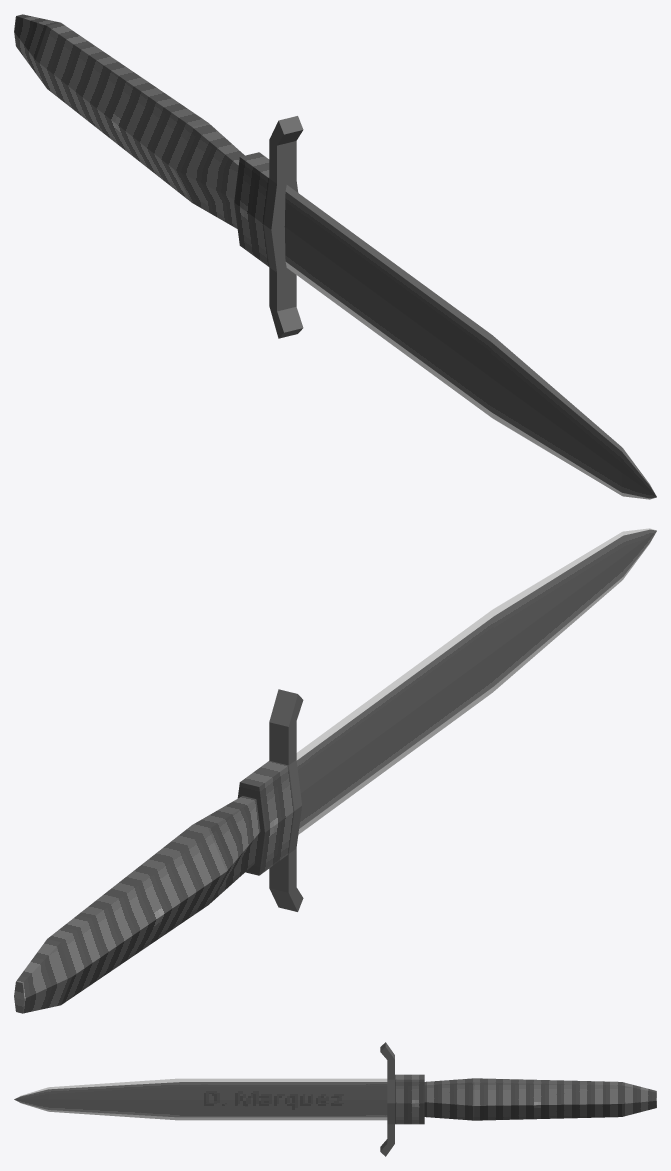
File: Knife.fbx
3 views of the same model, one above another, from view 1: azimuth 30°, elevation 25°; view 2: azimuth 150°, elevation 25°; view 3: azimuth 270°, elevation 25° (orthographic). The views are drawn at different scales.
Parts seen in each view (by area): view 1: Cube; view 2: Cube; view 3: Cube.
Boxes of the visible parts, x1,y1,x2,y2 form: Cube: [14, 14, 656, 499]; Cube: [14, 528, 656, 1013]; Cube: [14, 1042, 656, 1156].
Bounding box in the file's own units: 21.95 × 86.74 × 459.
Materials: 1 (1 with a texture image).
